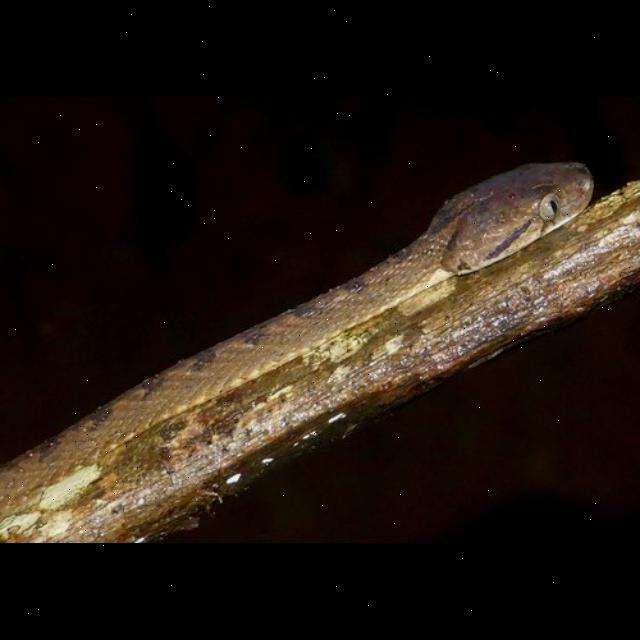snake: (1, 144, 606, 502)
